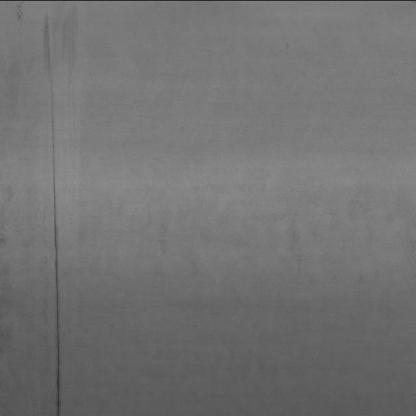crease: (29, 37, 76, 416)
